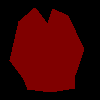abbigliamento_uomo: (9, 8, 84, 92)
